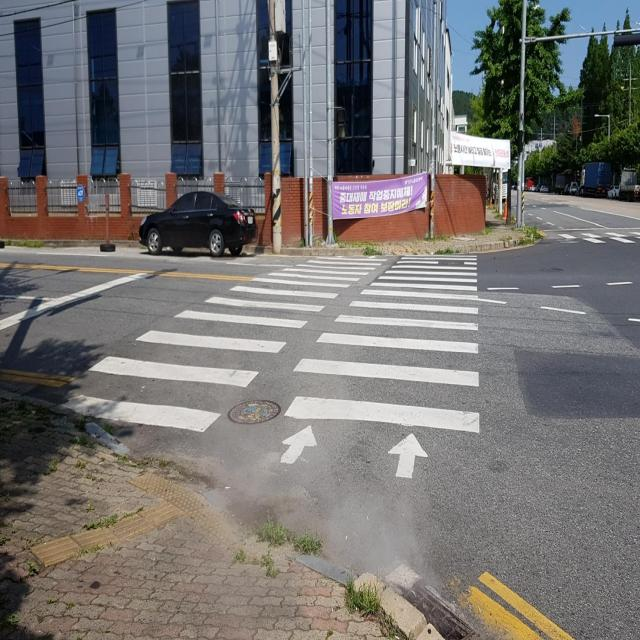횡단보도: (60, 250, 481, 483), (559, 229, 640, 244)
